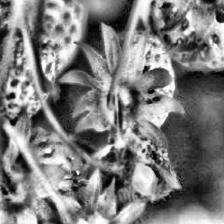Gray Mold: (72, 136, 182, 212)
